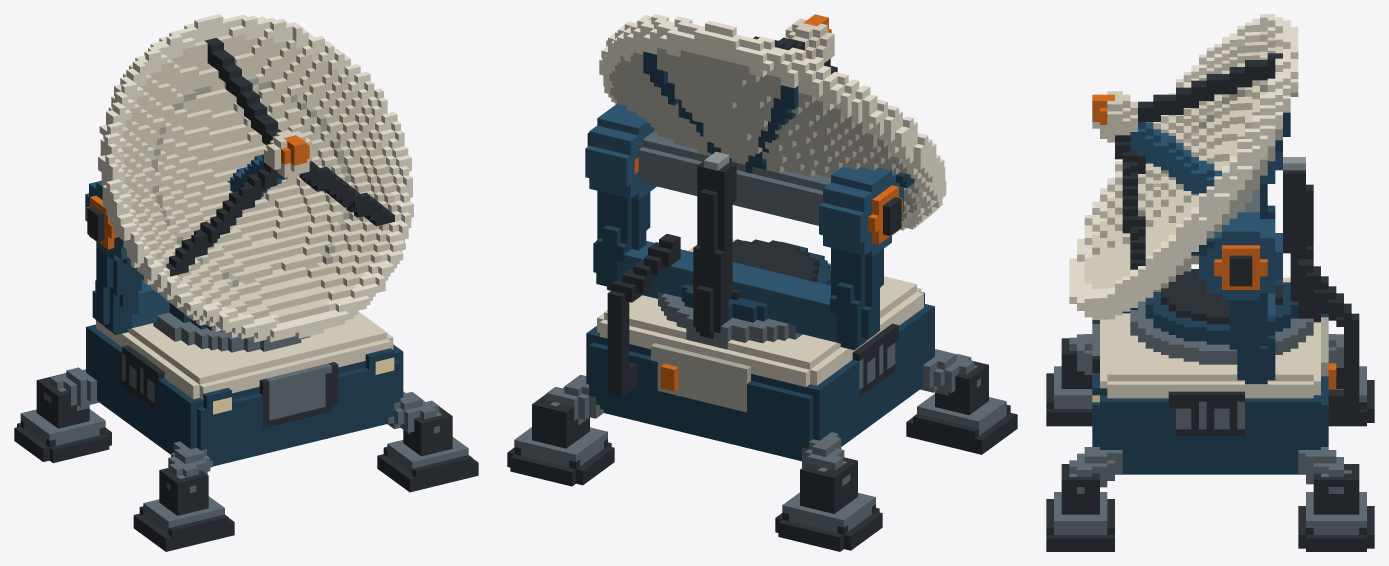
File: radar.glb
3 views of the same model, side by side, from view 1: azimuth 30°, elevation 25°; view 2: azimuth 150°, elevation 25°; view 3: azimuth 270°, elevation 25° (orthographic). The views are drawn at different scales.
Visible parts, largest first — view 1: radar; view 2: radar; view 3: radar.
Part boxes in pixels (<box>): radar: <box>14,14,478,551</box>; radar: <box>507,14,1017,551</box>; radar: <box>1046,14,1374,551</box>.
Size of the model in its own units: 4 by 5.04 by 3.44.
